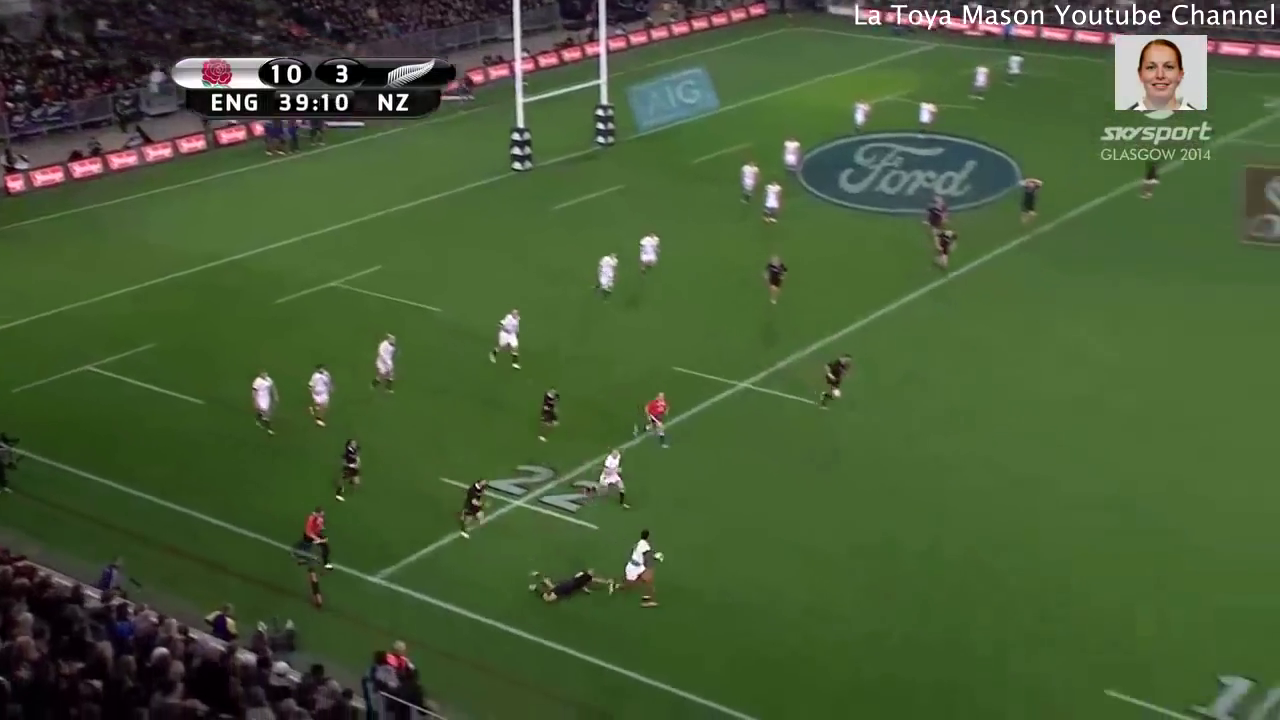player: (523, 561, 606, 610), (609, 525, 657, 608), (584, 448, 637, 512), (294, 499, 336, 574), (628, 389, 676, 453), (814, 350, 854, 417), (489, 309, 528, 377), (245, 370, 283, 438), (754, 251, 797, 310), (453, 473, 489, 543), (335, 436, 366, 508), (534, 383, 565, 448), (370, 335, 402, 396), (305, 368, 337, 428), (591, 246, 618, 308), (634, 232, 664, 287), (930, 224, 957, 278), (1012, 176, 1040, 228), (777, 135, 805, 183), (731, 158, 760, 204), (967, 59, 990, 109), (1137, 159, 1166, 198), (912, 96, 937, 140), (917, 194, 948, 227), (762, 176, 782, 227), (1001, 52, 1027, 91), (845, 95, 870, 135)
post: (507, 40, 617, 175)
